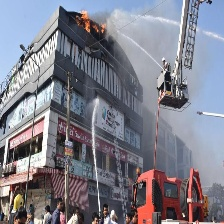fire: (75, 11, 105, 35)
smoke: (113, 7, 185, 105)
